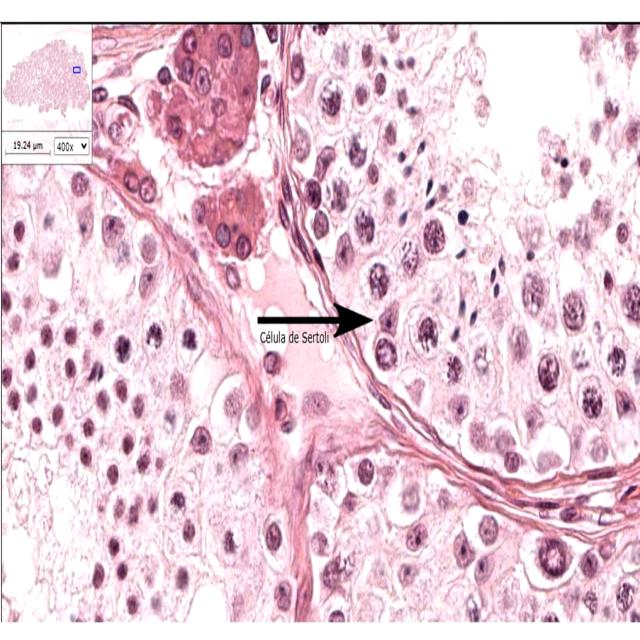Clase 10: (296, 64, 368, 140), (364, 211, 434, 281), (307, 410, 345, 500), (503, 442, 570, 480), (188, 30, 239, 73), (571, 373, 613, 425), (443, 530, 481, 571), (537, 537, 571, 579), (397, 519, 435, 555), (470, 332, 496, 384), (515, 401, 550, 439), (308, 143, 340, 183), (520, 272, 548, 317), (418, 216, 449, 256), (582, 433, 616, 467), (365, 260, 393, 301), (609, 579, 640, 615), (317, 79, 342, 122), (98, 214, 127, 250), (562, 290, 586, 331), (536, 353, 561, 392), (578, 384, 605, 420), (345, 134, 371, 171), (507, 325, 532, 363), (376, 300, 402, 336), (300, 389, 332, 418), (416, 315, 440, 353), (470, 93, 496, 127), (224, 439, 252, 470), (136, 232, 161, 266), (135, 266, 159, 301), (374, 336, 398, 371), (466, 47, 487, 86), (329, 176, 351, 213), (569, 338, 593, 371), (292, 122, 311, 163), (188, 425, 213, 456), (593, 535, 621, 562), (335, 232, 354, 271), (622, 282, 640, 323), (354, 209, 375, 244), (119, 167, 144, 196), (231, 232, 256, 261), (262, 521, 285, 552), (492, 427, 517, 455), (606, 344, 626, 378), (112, 332, 133, 364), (621, 539, 640, 574), (478, 514, 499, 545), (395, 562, 419, 589), (578, 549, 600, 578), (192, 66, 213, 96), (615, 389, 636, 419), (138, 175, 159, 204), (445, 354, 464, 384), (474, 555, 493, 585), (304, 178, 322, 209), (382, 177, 400, 208), (401, 483, 420, 512), (262, 19, 283, 45), (180, 27, 199, 55), (340, 490, 362, 514), (274, 582, 292, 611), (357, 457, 375, 485), (190, 197, 208, 225), (312, 210, 329, 239), (358, 41, 376, 68), (71, 171, 89, 197), (178, 57, 195, 84), (309, 531, 328, 555), (263, 352, 281, 375), (503, 450, 521, 473), (225, 263, 240, 290), (291, 52, 304, 83), (372, 71, 388, 96), (239, 23, 255, 48), (215, 222, 230, 248), (181, 327, 197, 350), (274, 395, 288, 420), (156, 65, 172, 85), (616, 222, 629, 244), (366, 162, 379, 184), (384, 122, 396, 145), (540, 611, 559, 625), (367, 162, 379, 184), (92, 87, 108, 102), (328, 609, 346, 622), (92, 119, 100, 141), (400, 154, 405, 175)
Clase 7: (281, 35, 371, 128), (360, 450, 434, 555), (93, 119, 164, 211), (104, 119, 145, 193), (310, 413, 344, 499), (26, 357, 81, 404), (379, 150, 415, 210), (324, 294, 372, 337), (535, 535, 573, 581), (468, 420, 491, 485), (306, 142, 340, 182), (446, 529, 478, 570), (521, 272, 548, 317), (560, 290, 588, 332), (505, 324, 534, 364), (366, 260, 393, 301), (375, 298, 403, 336), (486, 424, 518, 457), (580, 378, 605, 419), (575, 548, 606, 580), (519, 402, 548, 436), (373, 336, 399, 372), (587, 196, 615, 229), (400, 238, 422, 279), (334, 231, 356, 272), (475, 513, 502, 546), (503, 449, 540, 473), (416, 315, 439, 353), (537, 353, 560, 391), (187, 425, 215, 456), (329, 176, 351, 214), (423, 218, 446, 254), (353, 208, 376, 244), (604, 344, 629, 377), (471, 553, 495, 587), (301, 390, 331, 417), (393, 560, 420, 590), (292, 122, 311, 163), (446, 394, 471, 425), (471, 93, 493, 127), (119, 167, 144, 196), (622, 283, 640, 322), (321, 555, 341, 590), (579, 588, 604, 616), (570, 338, 591, 371), (587, 435, 610, 464), (106, 463, 119, 514), (614, 388, 636, 418), (616, 580, 635, 613), (168, 368, 187, 400), (348, 136, 367, 168), (386, 24, 400, 67), (308, 530, 330, 557), (42, 249, 62, 278), (401, 482, 420, 512), (264, 521, 282, 552), (274, 581, 292, 611), (340, 490, 362, 514), (446, 354, 464, 383), (139, 234, 157, 263), (70, 171, 90, 197), (262, 20, 283, 44), (113, 335, 131, 363), (304, 179, 321, 208), (464, 595, 482, 622), (90, 562, 107, 590), (312, 211, 329, 239), (290, 52, 305, 83), (277, 415, 299, 436), (146, 322, 163, 349), (139, 176, 156, 203), (602, 97, 621, 121), (195, 67, 211, 95), (358, 458, 374, 485), (263, 351, 281, 374), (576, 155, 594, 178), (625, 118, 640, 145), (215, 221, 230, 248), (235, 234, 251, 259), (225, 264, 240, 289), (274, 394, 288, 420), (360, 42, 374, 68), (192, 198, 206, 224), (125, 594, 140, 618), (182, 328, 198, 350), (223, 529, 237, 554), (131, 394, 145, 419), (182, 518, 196, 543), (39, 323, 53, 348), (114, 378, 128, 402), (156, 65, 172, 86), (96, 389, 110, 412), (121, 433, 135, 456), (281, 174, 292, 203), (176, 567, 189, 590), (51, 403, 64, 426), (13, 220, 26, 242), (616, 222, 629, 244), (374, 72, 386, 95), (384, 122, 396, 145), (92, 86, 108, 103), (170, 491, 185, 509), (367, 162, 379, 184), (63, 326, 76, 345), (91, 318, 104, 337), (540, 611, 559, 624), (82, 418, 95, 437), (7, 253, 20, 271), (328, 609, 345, 622), (92, 119, 100, 139), (479, 510, 483, 539), (72, 66, 80, 73)
Clase 8: (287, 52, 352, 122), (309, 412, 341, 499), (534, 534, 574, 581), (575, 376, 609, 421), (399, 518, 434, 556), (382, 150, 404, 209), (308, 143, 340, 183), (448, 529, 478, 570), (574, 548, 607, 580), (522, 272, 546, 316), (561, 290, 586, 331), (300, 388, 333, 418), (488, 424, 518, 457), (376, 299, 402, 336), (353, 207, 378, 245), (373, 336, 399, 372), (399, 238, 421, 279), (537, 353, 560, 392), (136, 232, 162, 266), (368, 262, 391, 300), (416, 315, 439, 353), (335, 231, 356, 271), (423, 218, 446, 254), (521, 403, 546, 436), (329, 177, 351, 213), (101, 214, 125, 247), (476, 514, 500, 547), (321, 554, 342, 591), (292, 123, 311, 163), (509, 326, 530, 362), (622, 282, 640, 324), (188, 425, 212, 456), (569, 339, 592, 371), (579, 587, 604, 616), (472, 93, 493, 127), (310, 208, 331, 240), (615, 388, 637, 418), (347, 135, 367, 168), (104, 119, 128, 146), (395, 562, 419, 589), (615, 581, 635, 613), (112, 333, 132, 364), (448, 395, 469, 424), (119, 168, 143, 193), (177, 55, 197, 85), (474, 555, 494, 585), (587, 436, 609, 463), (264, 521, 283, 552), (179, 27, 200, 55), (468, 421, 488, 450), (308, 530, 330, 556), (304, 178, 322, 209), (339, 490, 362, 514), (356, 457, 375, 486), (213, 220, 232, 249), (401, 483, 420, 512), (190, 196, 209, 225), (138, 175, 157, 204), (262, 19, 284, 44), (446, 354, 464, 384), (153, 64, 176, 87), (274, 582, 292, 611), (145, 321, 163, 349), (223, 262, 241, 290), (464, 595, 482, 623), (106, 120, 125, 146), (194, 66, 211, 95), (166, 114, 184, 140), (71, 171, 89, 197), (235, 233, 252, 260), (229, 442, 248, 466), (209, 96, 228, 120), (238, 23, 255, 49), (263, 352, 281, 375), (372, 71, 388, 96), (291, 53, 304, 83), (601, 269, 616, 294), (38, 323, 53, 348), (11, 219, 27, 242), (131, 393, 145, 419), (326, 608, 346, 625), (274, 395, 288, 419), (5, 252, 21, 272), (366, 162, 380, 184), (90, 117, 102, 142), (176, 567, 189, 590), (355, 85, 369, 106), (91, 86, 109, 102), (360, 43, 372, 66), (384, 122, 396, 145), (63, 326, 77, 345), (170, 491, 185, 508), (616, 222, 628, 243), (540, 611, 559, 624)
